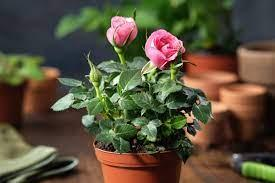Rose: (144, 25, 185, 70), (105, 8, 140, 53)
